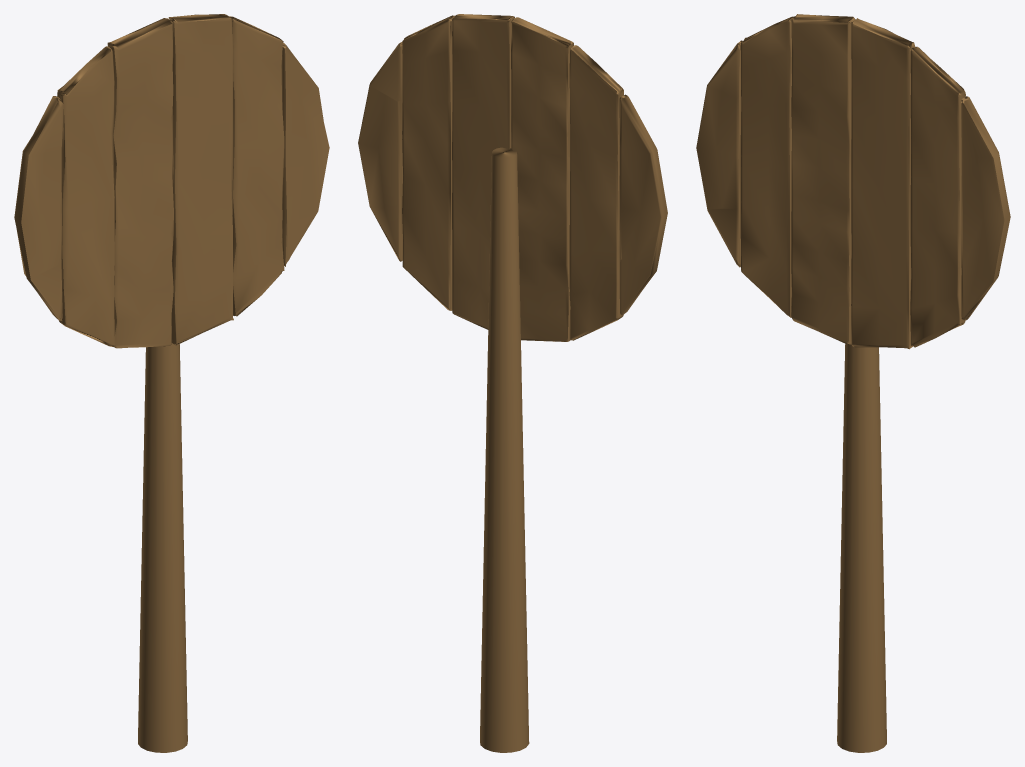
Rendered from alvo.fbx.
The picture shows the model from 3 angles, left to right: view 1: azimuth 30°, elevation 25°; view 2: azimuth 150°, elevation 25°; view 3: azimuth 330°, elevation 25°; orthographic projection.
Parts seen in each view (by area): view 1: alvo; view 2: alvo; view 3: alvo.
Part boxes in pixels (bbox=[...]): alvo: bbox=[14, 14, 329, 752]; alvo: bbox=[358, 14, 667, 752]; alvo: bbox=[696, 14, 1010, 752].
Bounding box in the file's own units: 382 × 854 × 53.68.
